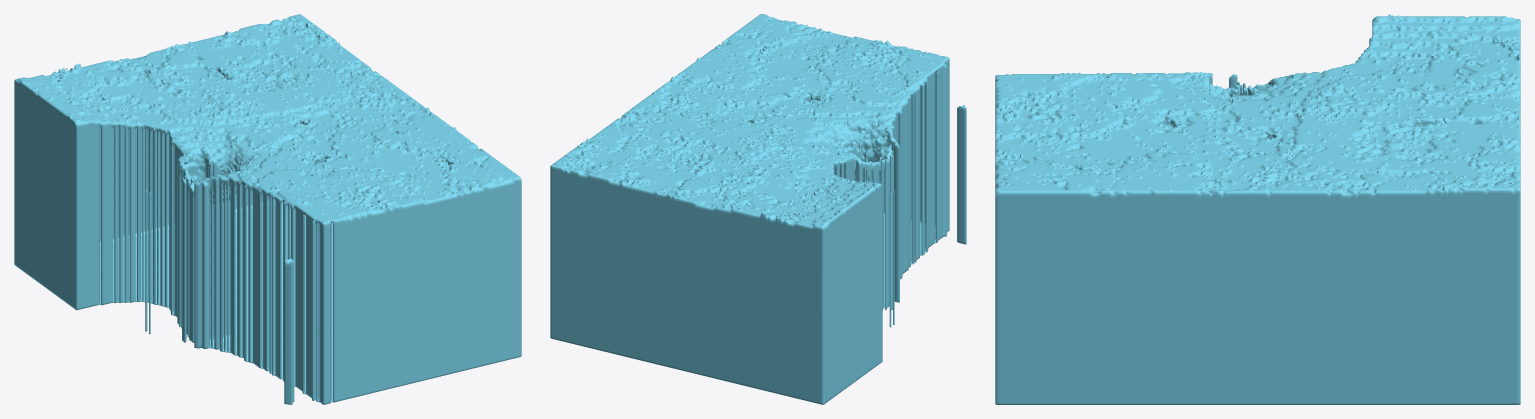
Rendered from East_outside-collision.glb.
The picture shows the model from 3 angles, left to right: view 1: azimuth 30°, elevation 25°; view 2: azimuth 150°, elevation 25°; view 3: azimuth 270°, elevation 25°; orthographic projection. The views are drawn at different scales.
Parts seen in each view (by area): view 1: Collision mesh; view 2: Collision mesh; view 3: Collision mesh.
Boxes of the visible parts, x1,y1,x2,y2 form: Collision mesh: (14, 14, 521, 404); Collision mesh: (550, 14, 966, 404); Collision mesh: (995, 14, 1520, 404).
Size of the model in its own units: 14.3 by 9.06 by 19.1.
